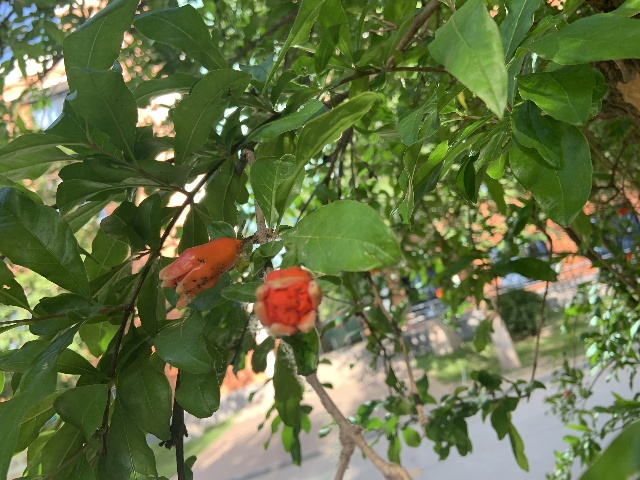flower: (159, 236, 242, 308), (254, 267, 321, 336)
